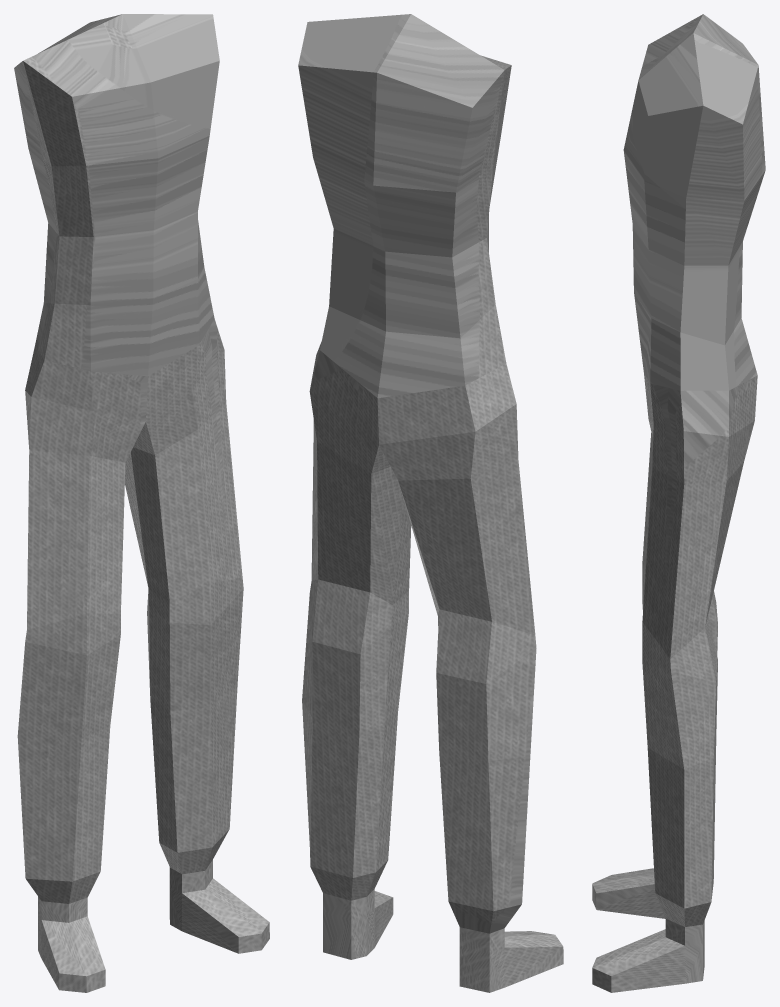
File: charaterblank.fbx
The picture shows the model from 3 angles, left to right: view 1: azimuth 30°, elevation 25°; view 2: azimuth 150°, elevation 25°; view 3: azimuth 270°, elevation 25°; orthographic projection. The views are drawn at different scales.
Visible parts, largest first — view 1: Cube; view 2: Cube; view 3: Cube.
Part boxes in pixels (<box>): Cube: <box>14,14,269,992</box>; Cube: <box>298,14,563,992</box>; Cube: <box>592,14,765,992</box>.
Size of the model in its own units: 41.06 by 164 by 28.39.
